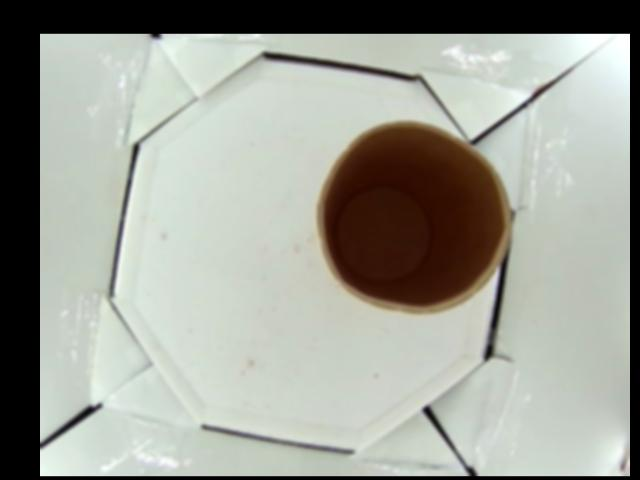Cup: (314, 121, 511, 311)
